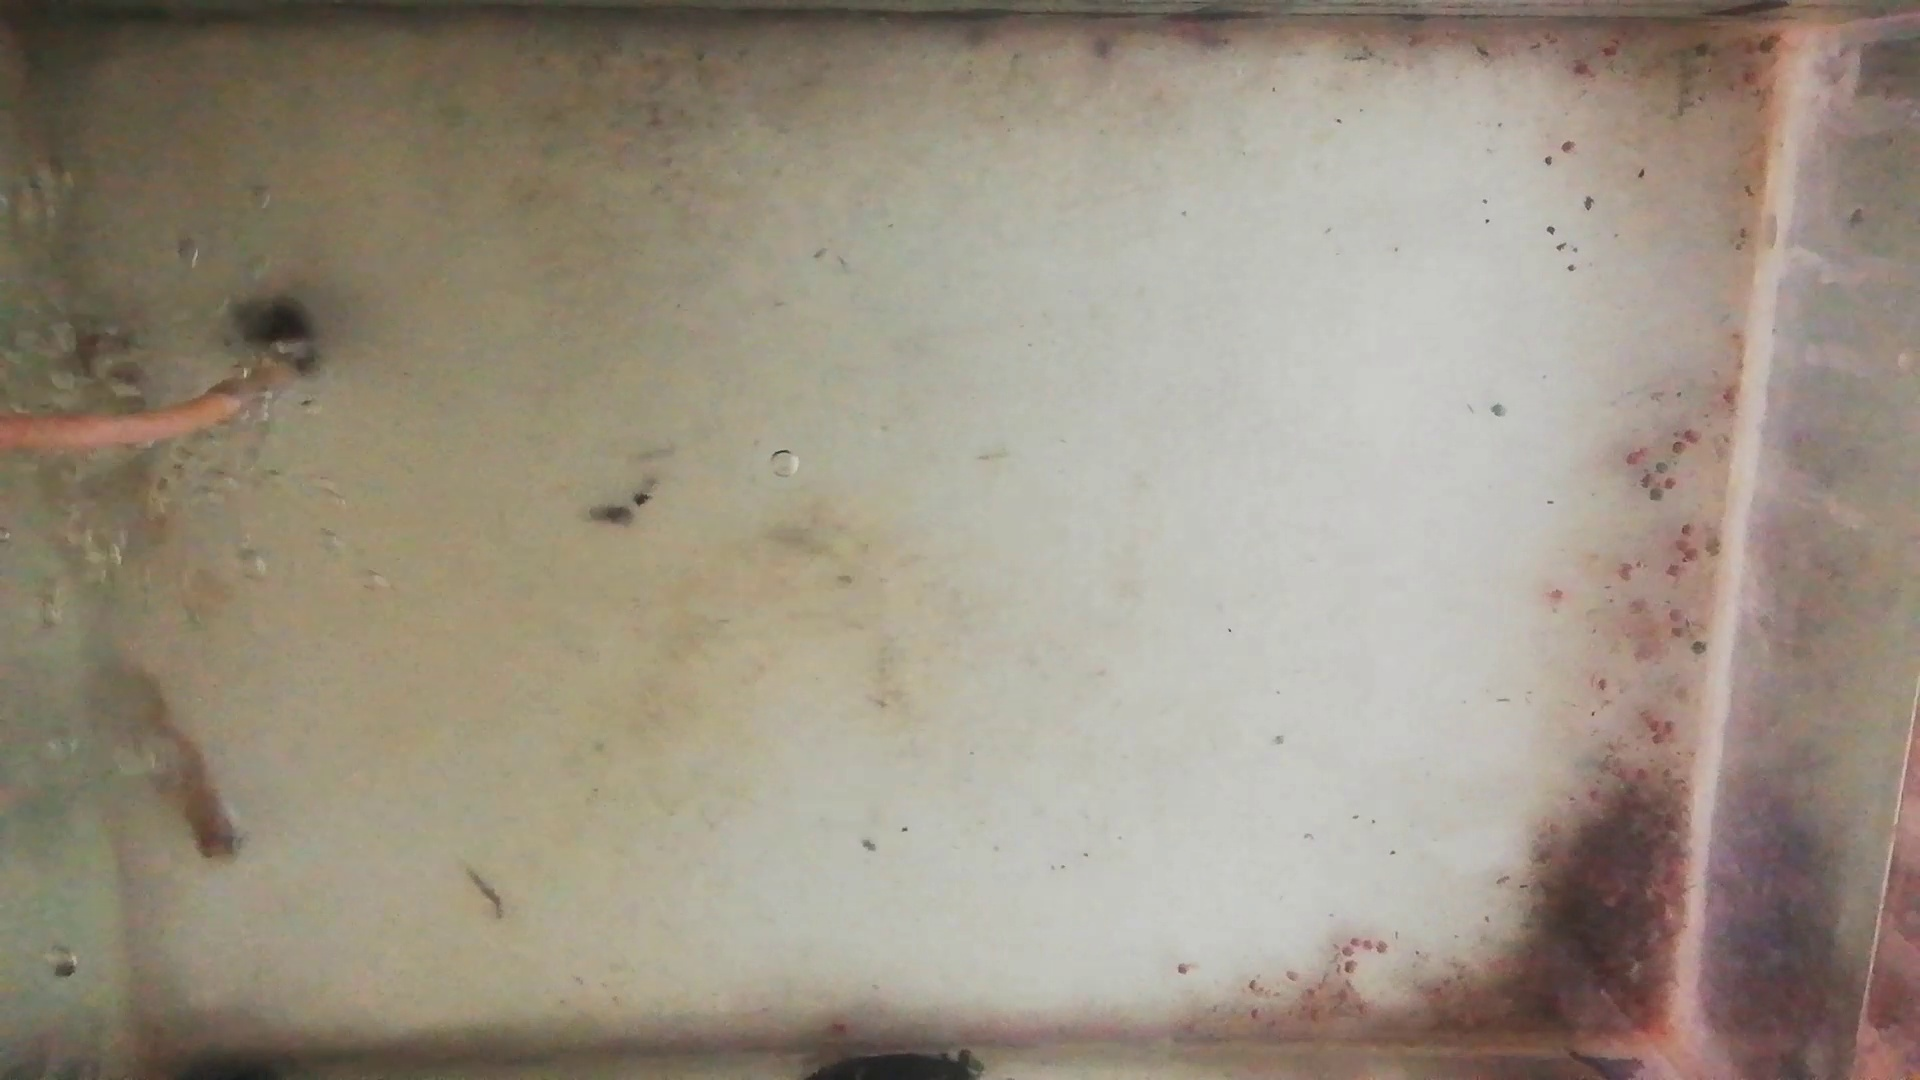fish: (137, 683, 249, 866), (73, 328, 156, 410)
